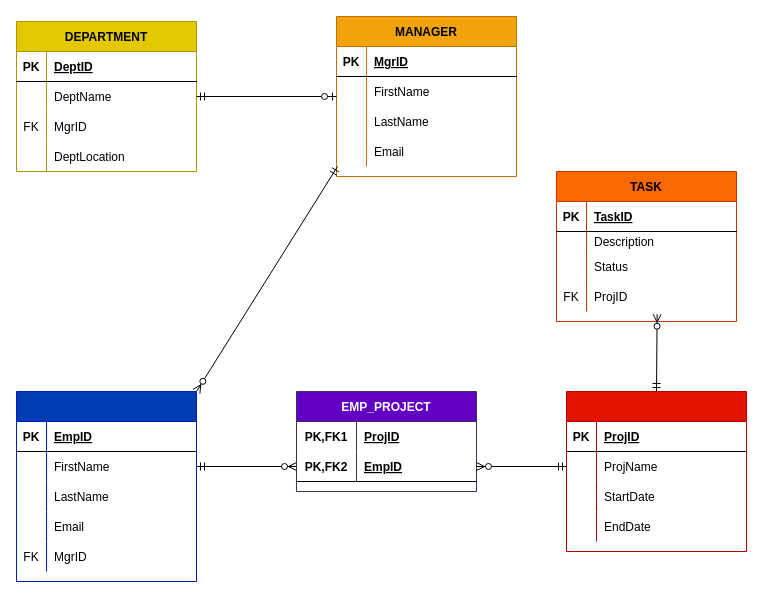
This 763x598 diagram has some shape labels left out. Here are the shapes that lost their labels. From the top down, the box of each, then its label:
(16, 390, 196, 582): EMPLOYEE
(566, 390, 746, 552): PROJECT
